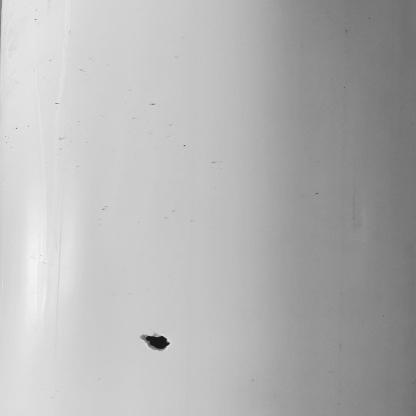kongdong: (128, 324, 182, 353)
